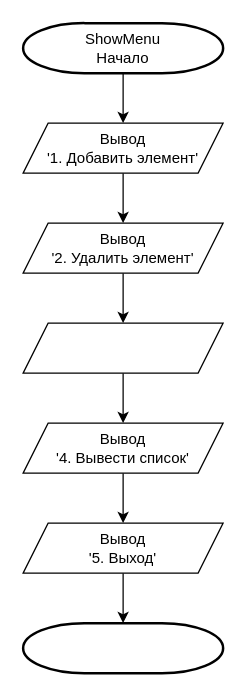
Some shapes in this 245 by 695 pixel diagram are drawn without their labels. The centre of each missing label's shape, as x and y in pixels:
"ShowMenu Конец" belongs at (x=122, y=647).
"Вывод '3. Найти элемент'" belongs at (x=122, y=347).
